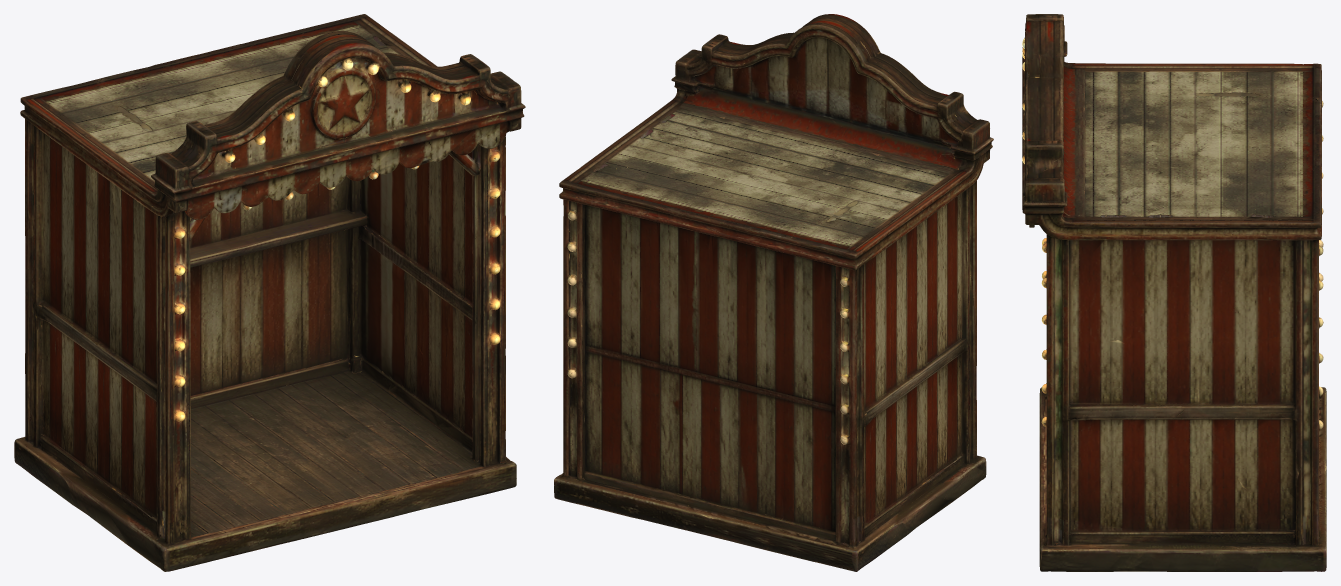
File: Meshy_AI_Vintage_Circus_Booth_0513211937_texture.fbx
The picture shows the model from 3 angles, left to right: view 1: azimuth 30°, elevation 25°; view 2: azimuth 150°, elevation 25°; view 3: azimuth 270°, elevation 25°; orthographic projection. The views are drawn at different scales.
Parts seen in each view (by area): view 1: Mesh_0; view 2: Mesh_0; view 3: Mesh_0.
Boxes of the visible parts, x1,y1,x2,y2 form: Mesh_0: (14,14,525,571); Mesh_0: (554,14,993,571); Mesh_0: (1022,14,1326,571).
Size of the model in its own units: 144 by 191 by 113.
Materials: 1 (1 with a texture image).
